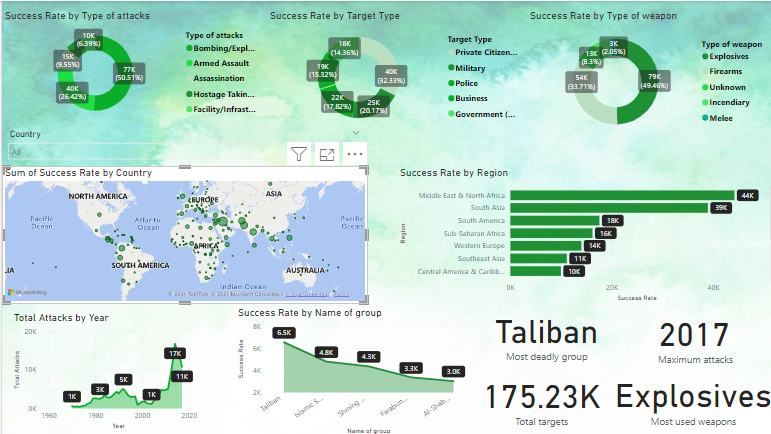

What the dashboard file says about the page in this screenshot:
{"tool":"powerbi","page":{"name":"Page 1","canvas":[1280,720],"ordinal":0},"visuals":[{"type":"donutChart","fields":{"Category":["Global terrorism final data set.Type of attacks"],"Y":["Sum(Global terrorism final data set.Success Rate)"]},"box":[0,13.5,436.7,192],"z":0},{"type":"donutChart","fields":{"Category":["Global terrorism final data set.Target Type"],"Y":["Sum(Global terrorism final data set.Success Rate)"]},"box":[436.7,13.5,428.6,206.8],"z":1000},{"type":"donutChart","fields":{"Category":["Global terrorism final data set.Type of weapon"],"Y":["Sum(Global terrorism final data set.Success Rate)"]},"box":[865.2,13.5,415,220.4],"z":2000},{"type":"barChart","fields":{"Category":["Global terrorism final data set.Region"],"Y":["Sum(Global terrorism final data set.Success Rate)"]},"box":[651.7,271.7,628.3,228.3],"z":3000},{"type":"areaChart","fields":{"Category":["Global terrorism final data set.Name of group"],"Y":["Sum(Global terrorism final data set.Success Rate)"]},"box":[385,503.3,393.3,216.7],"z":4000},{"type":"areaChart","fields":{"Category":["Global terrorism final data set.Year"],"Y":["CountNonNull(Global terrorism final data set.Year)"]},"box":[15,511.7,311.7,200],"z":5000},{"type":"slicer","fields":{"Values":["Global terrorism final data set.Country"]},"box":[0,205.5,603,66.2],"z":6000},{"type":"card","fields":{"Values":["Min(Global terrorism final data set.Name of group)"]},"box":[803.3,493.3,190,110],"z":7000},{"type":"card","fields":{"Values":["CountNonNull(Global terrorism final data set.Target Type)"]},"box":[786.7,601.7,206.7,106.7],"z":8000},{"type":"card","fields":{"Values":["Max(Global terrorism final data set.Year)"]},"box":[1046.7,503.3,188.3,100],"z":9000},{"type":"card","fields":{"Values":["Min(Global terrorism final data set.Type of weapon)"]},"box":[1001.7,588.3,278.3,131.7],"z":10000},{"type":"map","fields":{"Category":["Global terrorism final data set.Country"],"Size":["Sum(Global terrorism final data set.Success Rate)"]},"box":[0,272,603,228],"z":10001}]}

Visuals, with their boxes in screenshot pixels (x1, y1, x2, y2), scaled from the page's 1280x720 canvas onto the 771x434 screenshot:
donutChart - Global terrorism final data set.Type of attacks x Sum(Global terrorism final data set.Success Rate): 0/8/263/124
donutChart - Global terrorism final data set.Target Type x Sum(Global terrorism final data set.Success Rate): 263/8/521/133
donutChart - Global terrorism final data set.Type of weapon x Sum(Global terrorism final data set.Success Rate): 521/8/770/141
barChart - Global terrorism final data set.Region x Sum(Global terrorism final data set.Success Rate): 393/164/770/301
areaChart - Global terrorism final data set.Name of group x Sum(Global terrorism final data set.Success Rate): 232/303/469/433
areaChart - Global terrorism final data set.Year x CountNonNull(Global terrorism final data set.Year): 9/308/197/429
slicer - Global terrorism final data set.Country: 0/124/363/164
card - Min(Global terrorism final data set.Name of group): 484/297/598/364
card - CountNonNull(Global terrorism final data set.Target Type): 474/363/598/427
card - Max(Global terrorism final data set.Year): 630/303/744/364
card - Min(Global terrorism final data set.Type of weapon): 603/355/770/433
map - Global terrorism final data set.Country x Sum(Global terrorism final data set.Success Rate): 0/164/363/301
